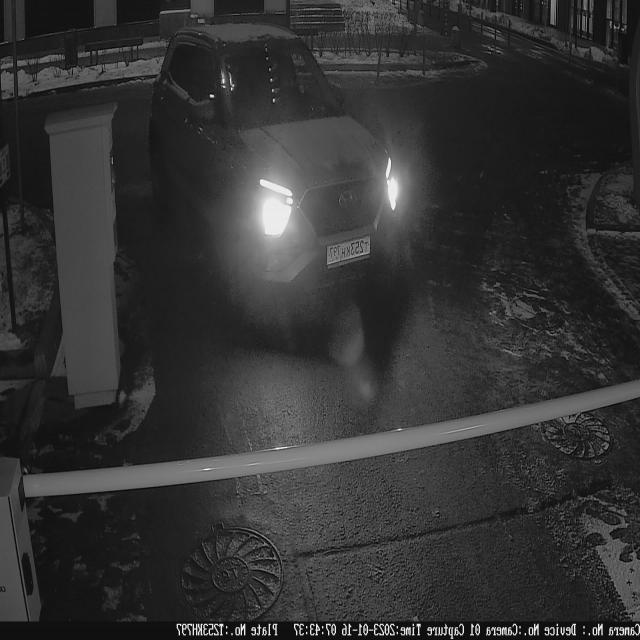car-plate-numbers: (327, 232, 374, 266)
